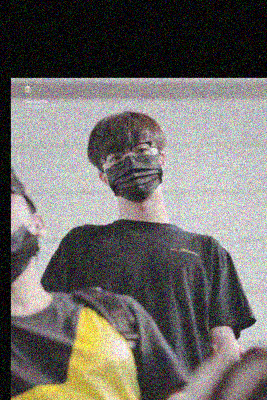with_mask: (103, 137, 163, 201)
